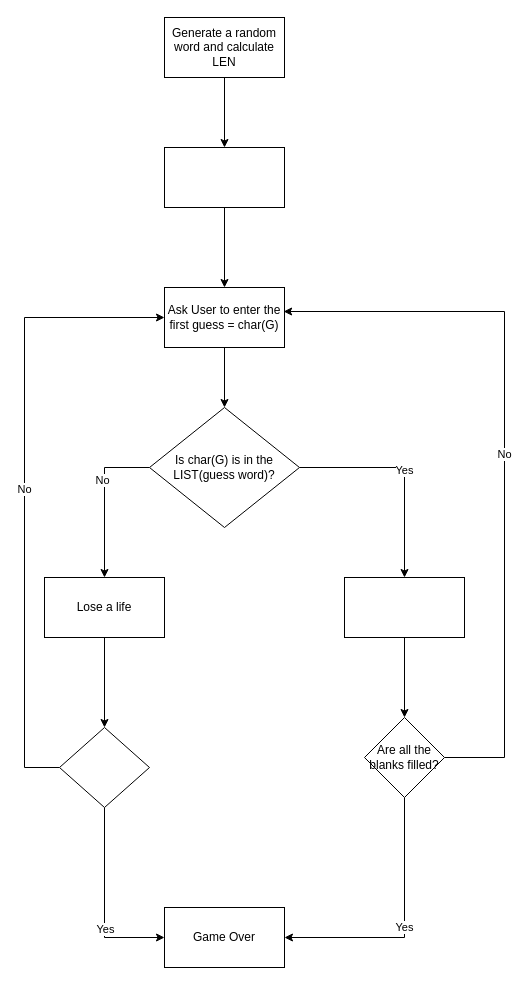
Some shapes in this 530 by 985 pixel diagram are drawn without their labels. Each missing label, with the centre of its shape:
"Display the guess word with blank = LEN _ _ _ _ _" belongs at point 224,177.
"Replace the blank with the letter" belongs at point 404,607.
"Run out of lives?" belongs at point 104,767.
